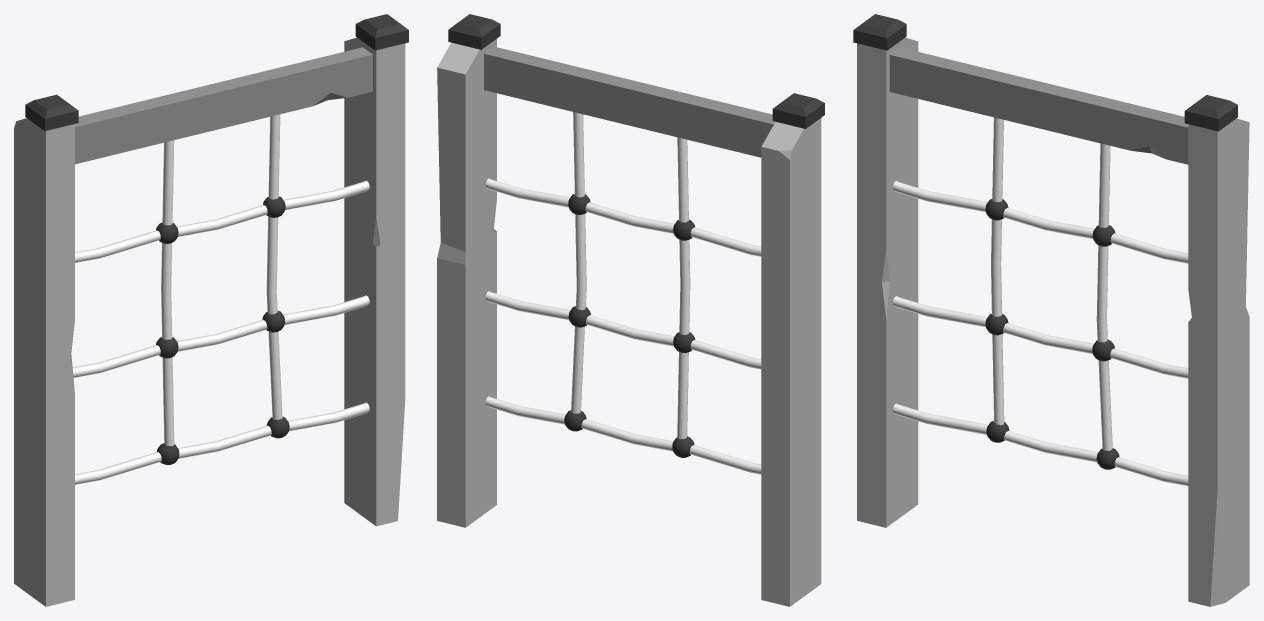
Rendered from SM_Prop_ClimbingFrame_01.obj.
3 views of the same model, side by side, from view 1: azimuth 30°, elevation 25°; view 2: azimuth 150°, elevation 25°; view 3: azimuth 330°, elevation 25° (orthographic). The views are drawn at different scales.
Parts seen in each view (by area): view 1: SM_Prop_ClimbingFrame_01_Mat_SwatchOverlay_PolygonTown_01_Wood_I, SM_Prop_ClimbingFrame_01_Mat_SwatchOverlay_PolygonTown_01_WoodRo; view 2: SM_Prop_ClimbingFrame_01_Mat_SwatchOverlay_PolygonTown_01_Wood_I, SM_Prop_ClimbingFrame_01_Mat_SwatchOverlay_PolygonTown_01_WoodRo; view 3: SM_Prop_ClimbingFrame_01_Mat_SwatchOverlay_PolygonTown_01_Wood_I, SM_Prop_ClimbingFrame_01_Mat_SwatchOverlay_PolygonTown_01_WoodRo.
Boxes of the visible parts, <box> form: SM_Prop_ClimbingFrame_01_Mat_SwatchOverlay_PolygonTown_01_Wood_I: <box>14,14,408,606</box>; SM_Prop_ClimbingFrame_01_Mat_SwatchOverlay_PolygonTown_01_WoodRo: <box>75,47,372,164</box>; SM_Prop_ClimbingFrame_01_Mat_SwatchOverlay_PolygonTown_01_Wood_I: <box>437,14,824,606</box>; SM_Prop_ClimbingFrame_01_Mat_SwatchOverlay_PolygonTown_01_WoodRo: <box>484,46,775,157</box>; SM_Prop_ClimbingFrame_01_Mat_SwatchOverlay_PolygonTown_01_Wood_I: <box>853,14,1249,606</box>; SM_Prop_ClimbingFrame_01_Mat_SwatchOverlay_PolygonTown_01_WoodRo: <box>889,47,1188,164</box>.
Bounding box in the file's own units: 3.09 × 4.01 × 0.4882.
Materials: 2 (2 with a texture image).
